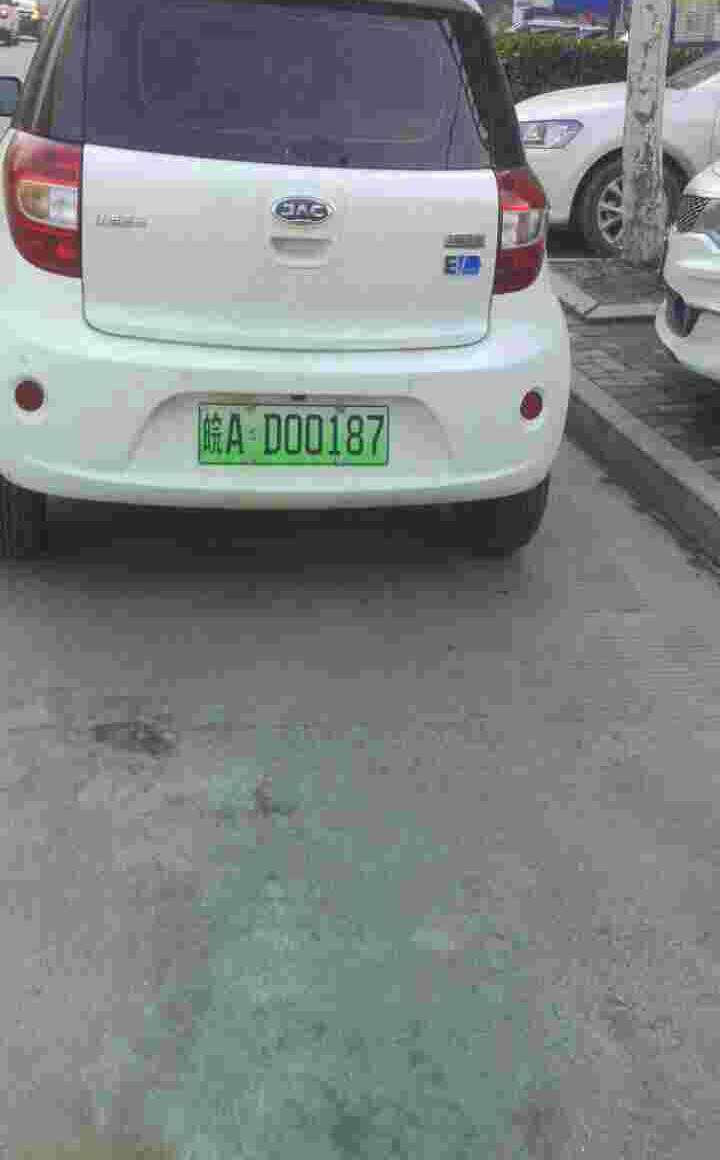car_green: (194, 401, 394, 470)
